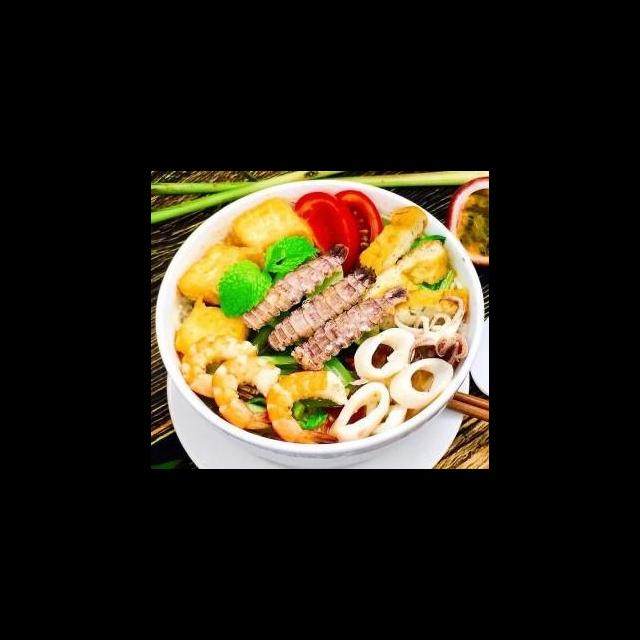dau hu: (225, 194, 320, 270), (175, 237, 269, 311), (171, 296, 254, 362)
muc: (389, 291, 471, 373), (324, 379, 393, 445), (386, 354, 456, 413), (351, 326, 420, 385)
tom: (262, 368, 353, 447), (209, 350, 291, 433), (177, 332, 262, 401)
tom tit: (286, 283, 412, 375), (264, 260, 381, 354), (239, 240, 353, 333)
